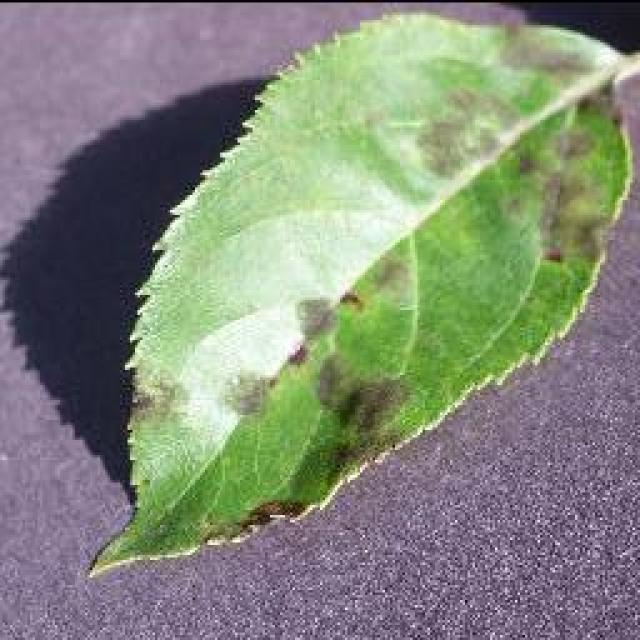apple scab disease: (85, 5, 637, 580)
